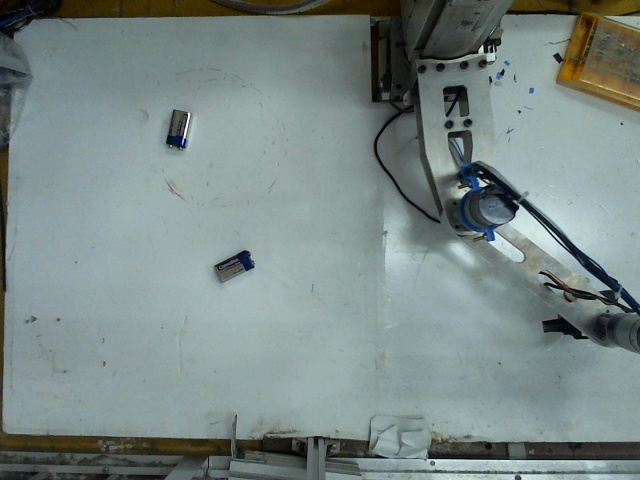battery: (211, 246, 257, 281), (163, 102, 192, 150)
